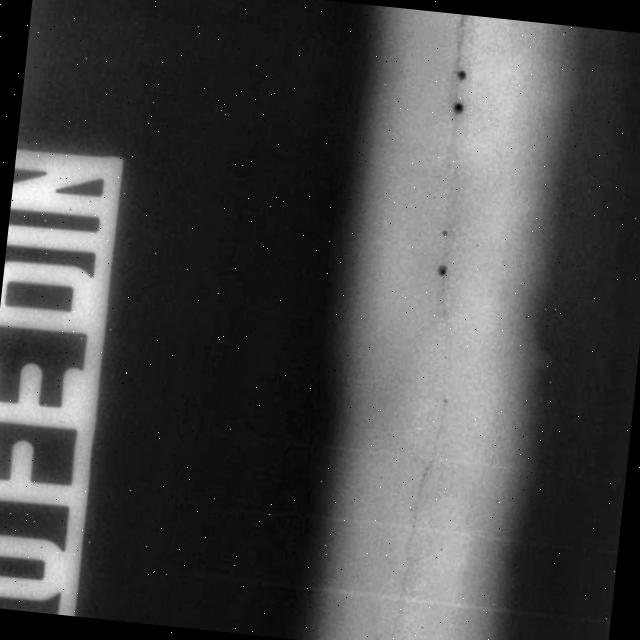Crack: (354, 9, 533, 640)
LoP-LoF: (431, 256, 459, 284)
Pore: (428, 219, 461, 242), (443, 98, 474, 119), (452, 62, 472, 84)
